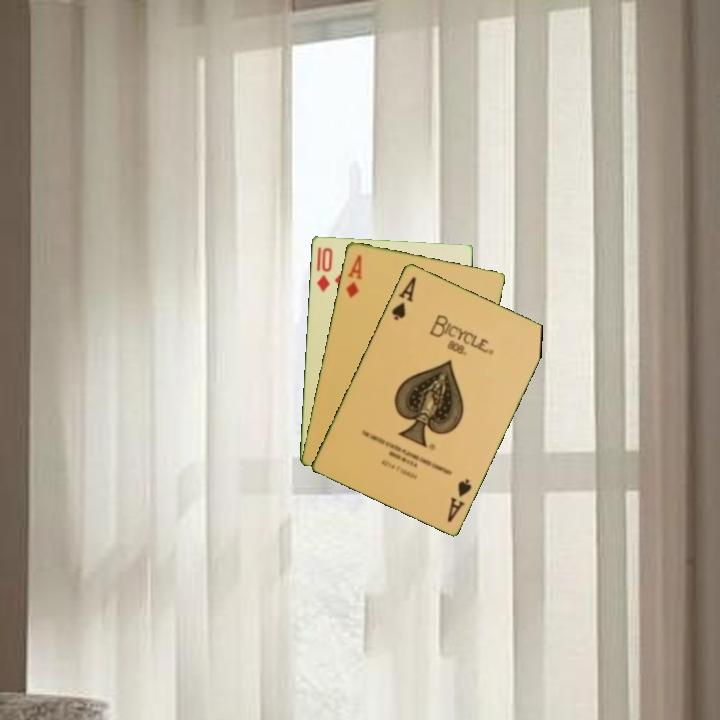10d: (313, 243, 335, 295)
Ad: (342, 250, 365, 300)
As: (388, 273, 419, 323), (443, 475, 474, 525)
